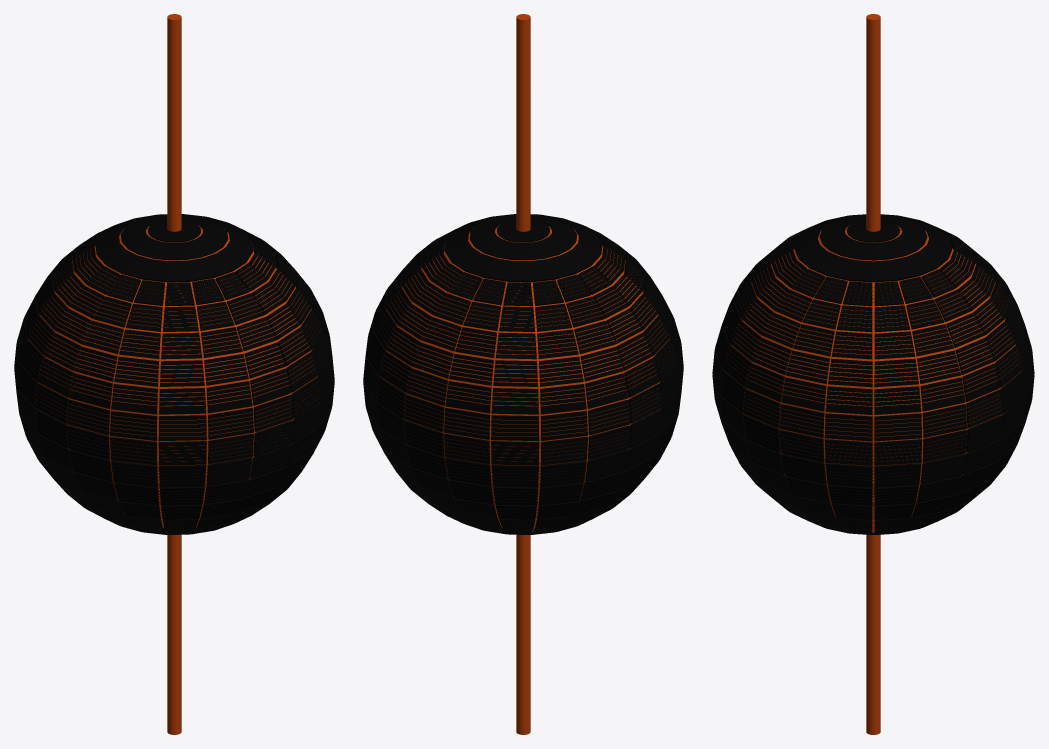
The model's file is DysonSphereGenerator.fbx.
3 views of the same model, side by side, from view 1: azimuth 30°, elevation 25°; view 2: azimuth 150°, elevation 25°; view 3: azimuth 270°, elevation 25° (orthographic).
Visible parts, largest first — view 1: dysonSphereGene; view 2: dysonSphereGene; view 3: dysonSphereGene.
Boxes of the visible parts, x1,y1,x2,y2 form: dysonSphereGene: (14, 14, 334, 734); dysonSphereGene: (363, 14, 683, 734); dysonSphereGene: (712, 14, 1034, 734).
Size of the model in its own units: 2 by 4.89 by 2.
